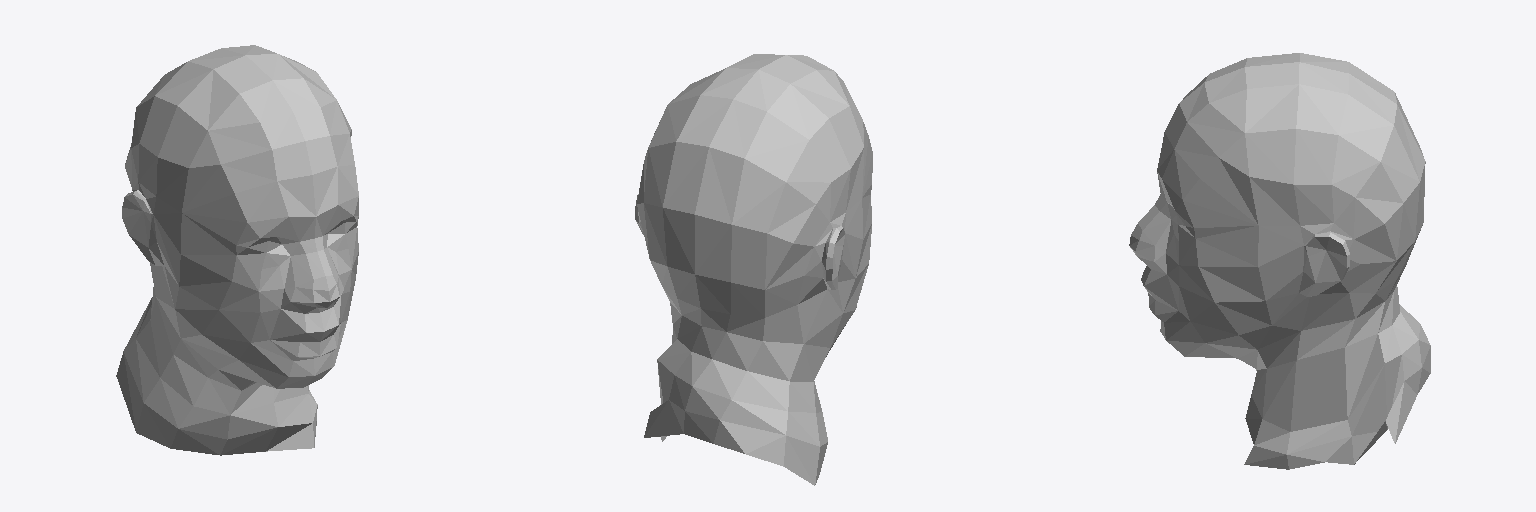
The model's file is human.obj.
3 views of the same model, side by side, from view 1: azimuth 30°, elevation 25°; view 2: azimuth 150°, elevation 25°; view 3: azimuth 270°, elevation 25° (orthographic).
Visible parts, largest first — view 1: Head; view 2: Head; view 3: Head.
Part boxes in pixels (left/top/right/bottom): Head: left=116, top=45, right=358, bottom=455; Head: left=635, top=54, right=872, bottom=485; Head: left=1129, top=53, right=1430, bottom=469.
Bounding box in the file's own units: 0.2832 × 0.5274 × 0.372.